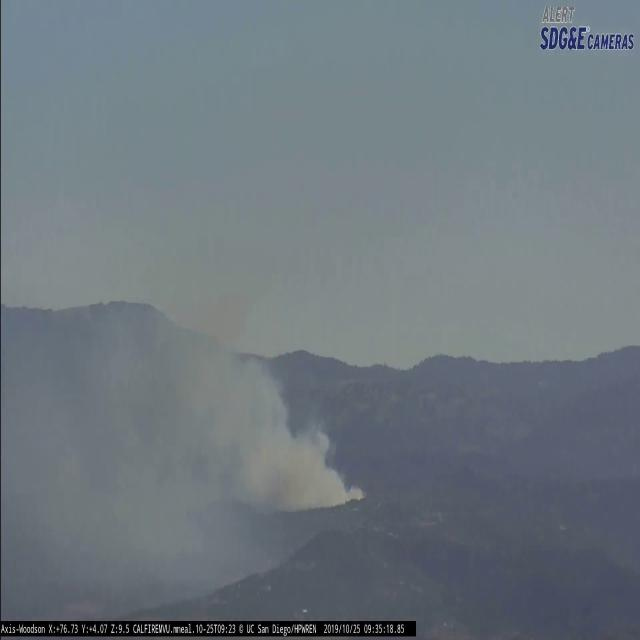smoke: (151, 260, 364, 598), (4, 270, 150, 611)
